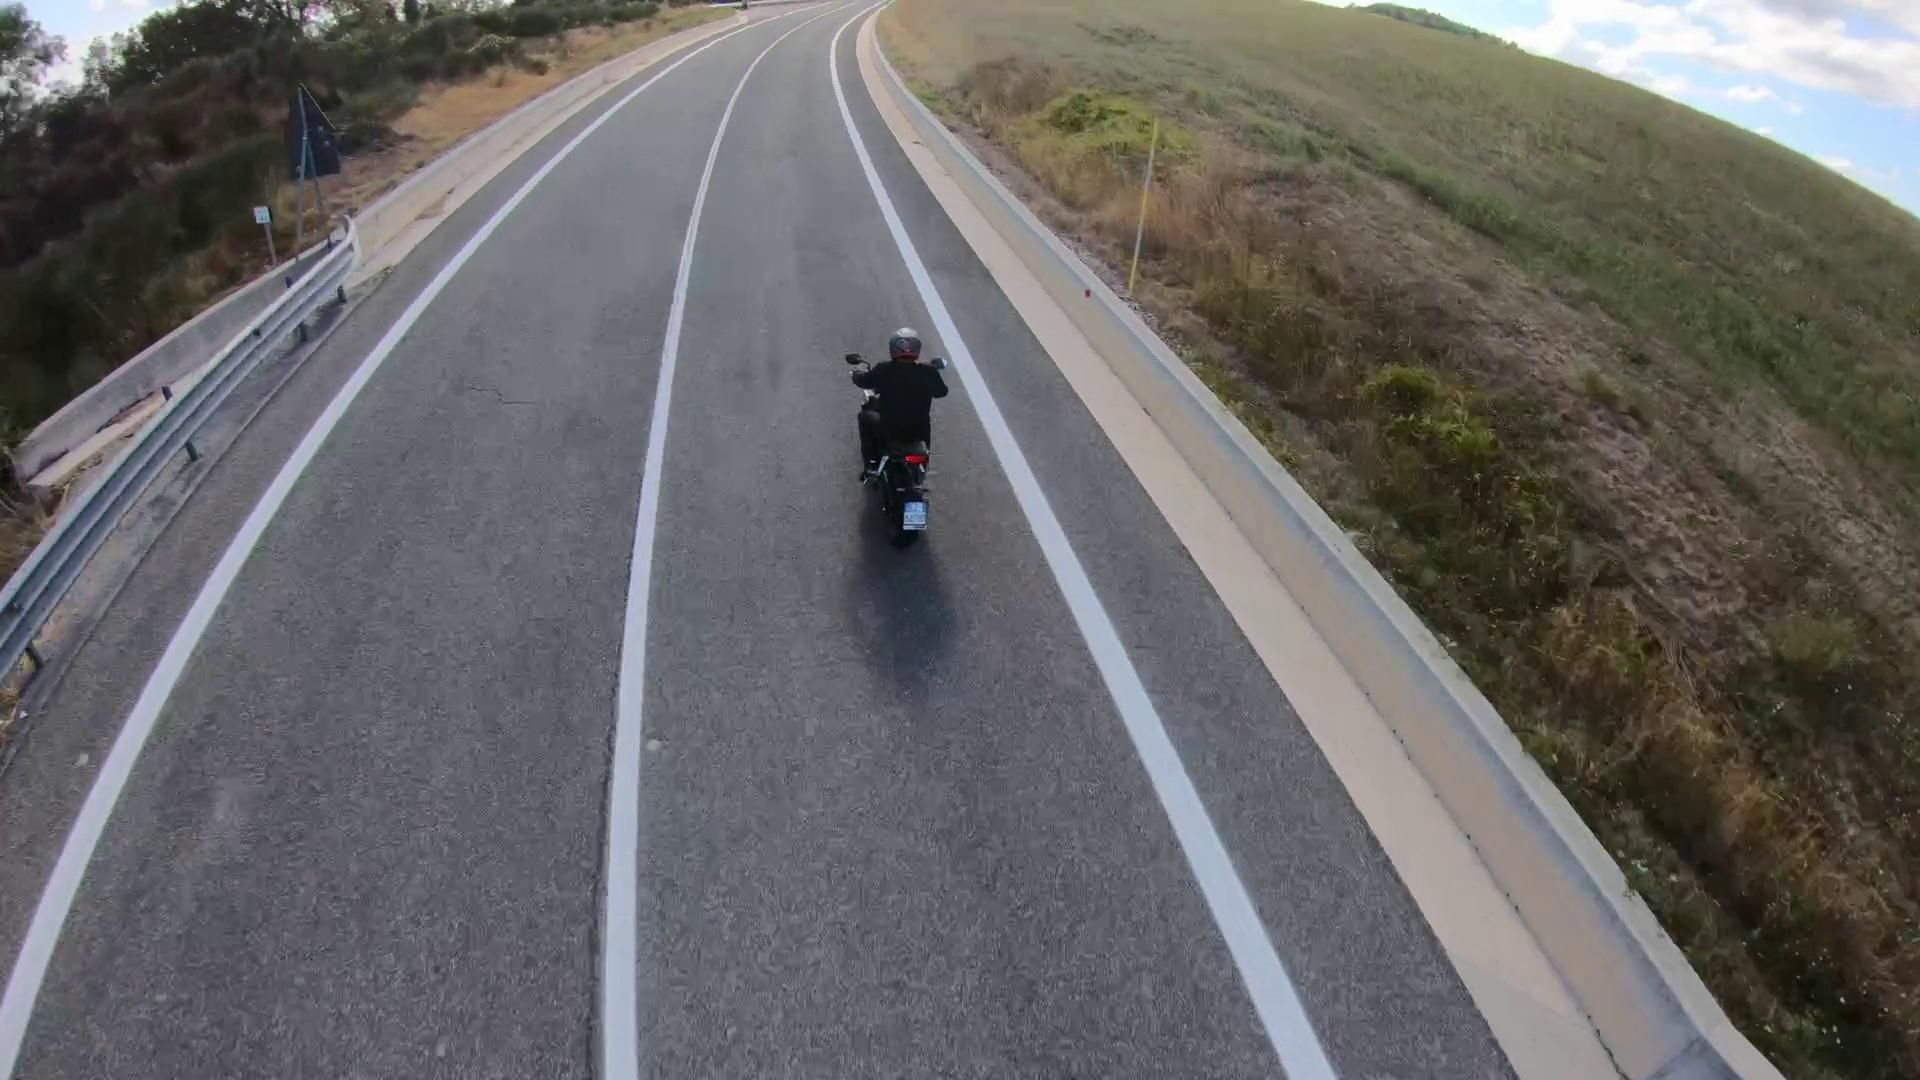cow: (844, 348, 952, 545)
horse: (855, 324, 945, 485)
